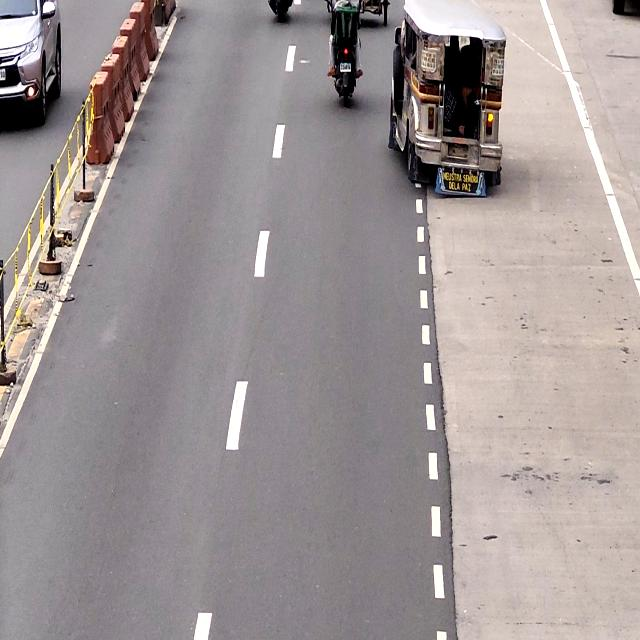Jeep: (391, 0, 503, 185)
License-Plate: (338, 60, 353, 75)
Motorcycle: (326, 0, 361, 106)
